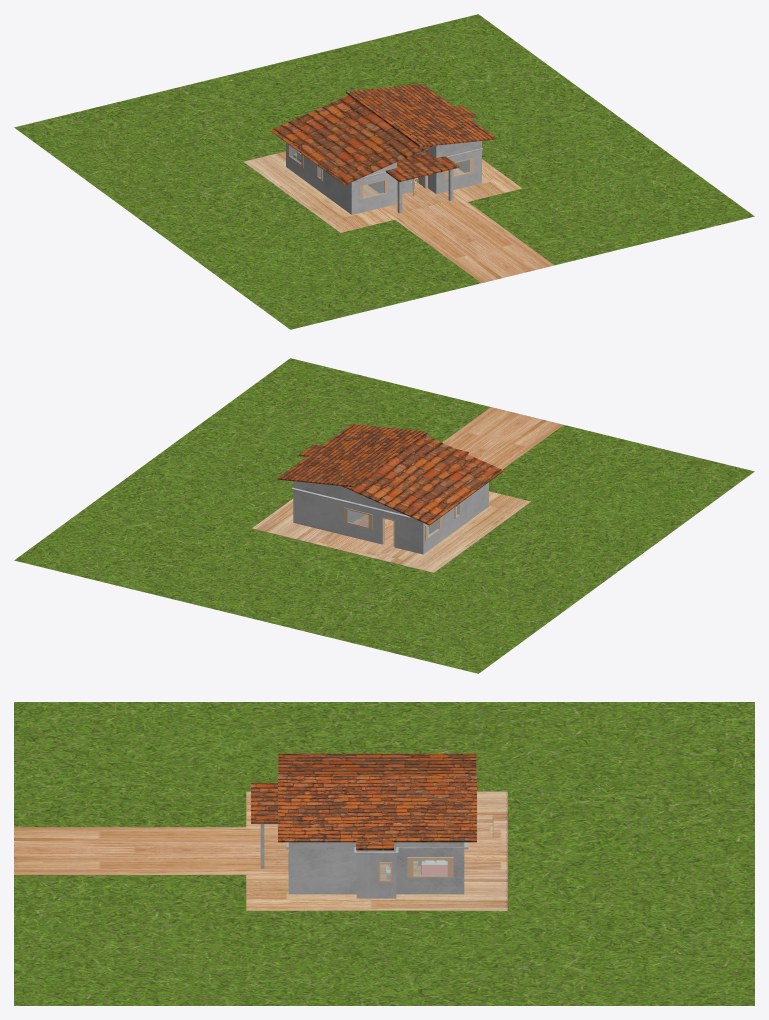
The model's file is casa.glb.
The picture shows the model from 3 angles, top to bottom: view 1: azimuth 30°, elevation 25°; view 2: azimuth 150°, elevation 25°; view 3: azimuth 270°, elevation 25°; orthographic projection. The views are drawn at different scales.
Parts seen in each view (by area): view 1: cesped, piso exterior, tejado 2, teajado, paredes casa, piso tejado.002, piso casa, pardes techo; view 2: cesped, piso exterior, tejado 2, paredes casa, teajado, pardes techo, piso casa; view 3: cesped, piso exterior, teajado, paredes casa, tejado 2, piso casa, piso tejado.002, window.003, pardes techo, piso tejado.
Boxes of the visible parts, box(x1,y1,x2,y2) form: cesped: box(14, 14, 754, 329); piso exterior: box(243, 151, 554, 282); tejado 2: box(270, 95, 431, 185); teajado: box(345, 84, 496, 147); paredes casa: box(286, 143, 481, 214); piso tejado.002: box(385, 152, 459, 181); piso casa: box(285, 156, 463, 212); pardes techo: box(364, 141, 481, 176); cesped: box(14, 358, 754, 673); piso exterior: box(252, 407, 563, 572); tejado 2: box(342, 435, 503, 525); paredes casa: box(293, 482, 488, 554); teajado: box(277, 424, 428, 487); pardes techo: box(293, 481, 405, 514); piso casa: box(359, 514, 429, 559); cesped: box(14, 702, 754, 1005); piso exterior: box(14, 791, 507, 910); teajado: box(278, 776, 476, 850); paredes casa: box(288, 849, 464, 898); tejado 2: box(278, 753, 476, 775); piso casa: box(261, 815, 493, 879); piso tejado.002: box(251, 783, 277, 823); window.003: box(407, 857, 453, 877); pardes techo: box(288, 842, 464, 851); piso tejado: box(286, 842, 468, 854).
Size of the model in its own units: 35.19 by 4.25 by 36.27.
178 materials, 12 textured.
